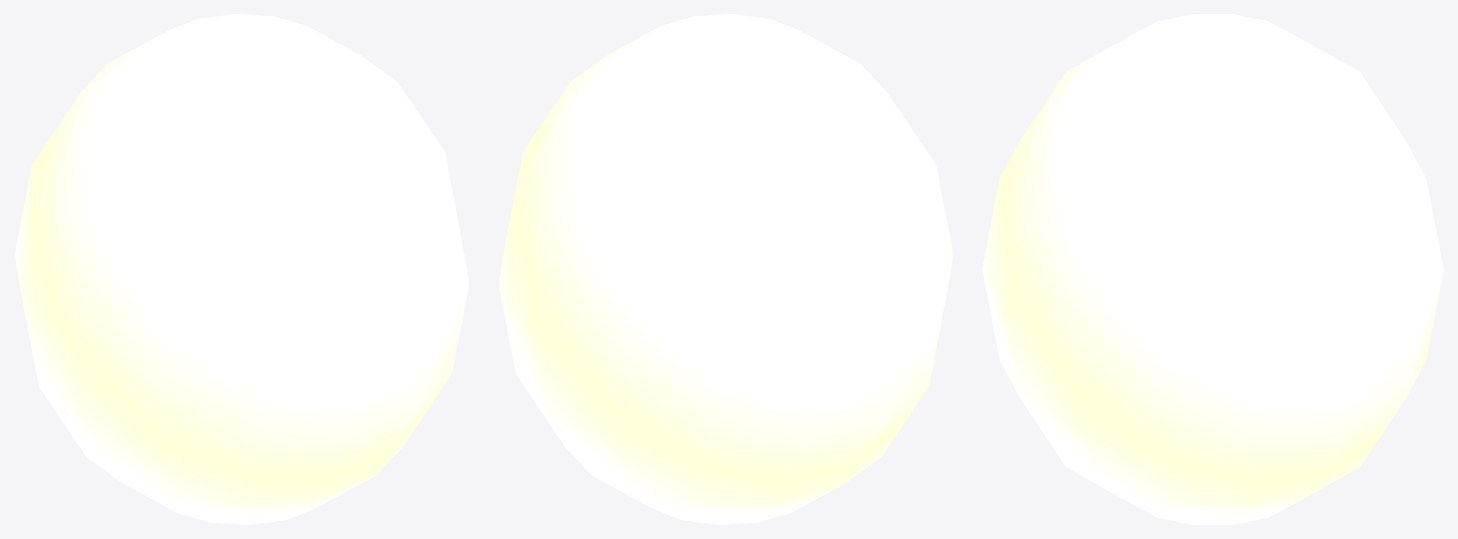
The model's file is PendantLampGlow.fbx.
The picture shows the model from 3 angles, left to right: view 1: azimuth 30°, elevation 25°; view 2: azimuth 150°, elevation 25°; view 3: azimuth 270°, elevation 25°; orthographic projection.
Visible parts, largest first — view 1: Prop_PendantLampGlow; view 2: Prop_PendantLampGlow; view 3: Prop_PendantLampGlow.
Boxes of the visible parts, box(x1,y1,x2,y2) form: Prop_PendantLampGlow: box(14, 14, 469, 524); Prop_PendantLampGlow: box(498, 14, 953, 524); Prop_PendantLampGlow: box(982, 14, 1443, 524).
Size of the model in its own units: 0.1462 by 0.17 by 0.15.
